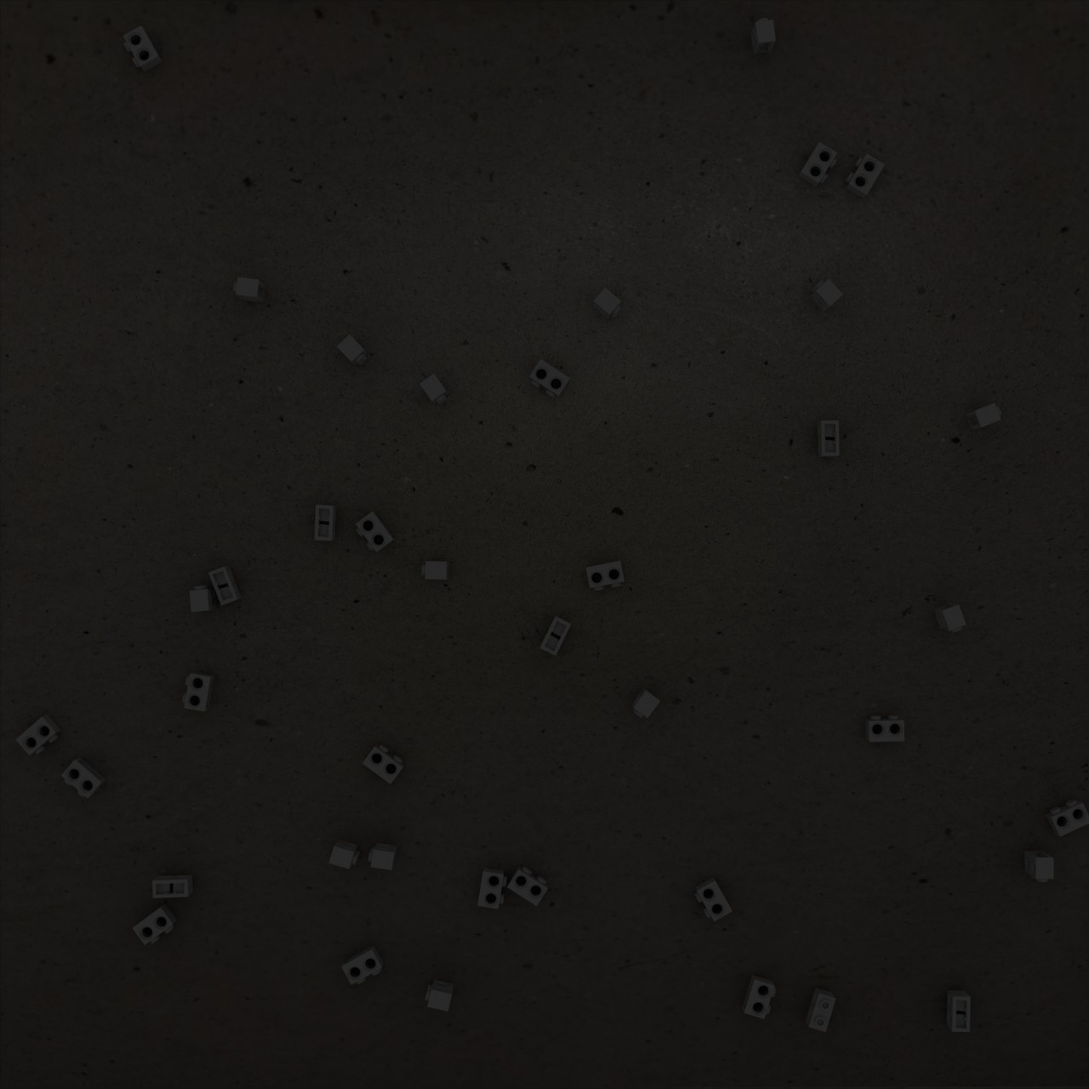lego: (15, 714, 62, 756), (61, 757, 107, 799), (132, 903, 177, 945), (123, 25, 163, 72), (845, 154, 885, 199), (694, 877, 733, 922), (798, 142, 837, 187), (341, 945, 384, 985), (362, 744, 405, 784), (1045, 799, 1089, 837), (507, 866, 548, 906), (355, 511, 395, 552), (529, 359, 570, 398), (742, 974, 776, 1019), (805, 987, 836, 1032), (208, 566, 242, 606), (182, 672, 215, 712), (540, 615, 571, 656), (477, 867, 507, 909), (585, 560, 624, 591), (810, 279, 843, 312), (865, 715, 905, 742), (947, 990, 971, 1032), (337, 334, 368, 366), (933, 603, 966, 633), (965, 403, 1001, 430), (419, 373, 449, 405), (425, 979, 454, 1012), (592, 287, 621, 320), (152, 875, 193, 898), (329, 839, 360, 869), (1025, 850, 1054, 882), (751, 18, 776, 54), (631, 687, 660, 718), (233, 277, 266, 303), (817, 420, 840, 457), (368, 843, 398, 870), (314, 505, 336, 541), (189, 585, 217, 612), (422, 561, 449, 580)
